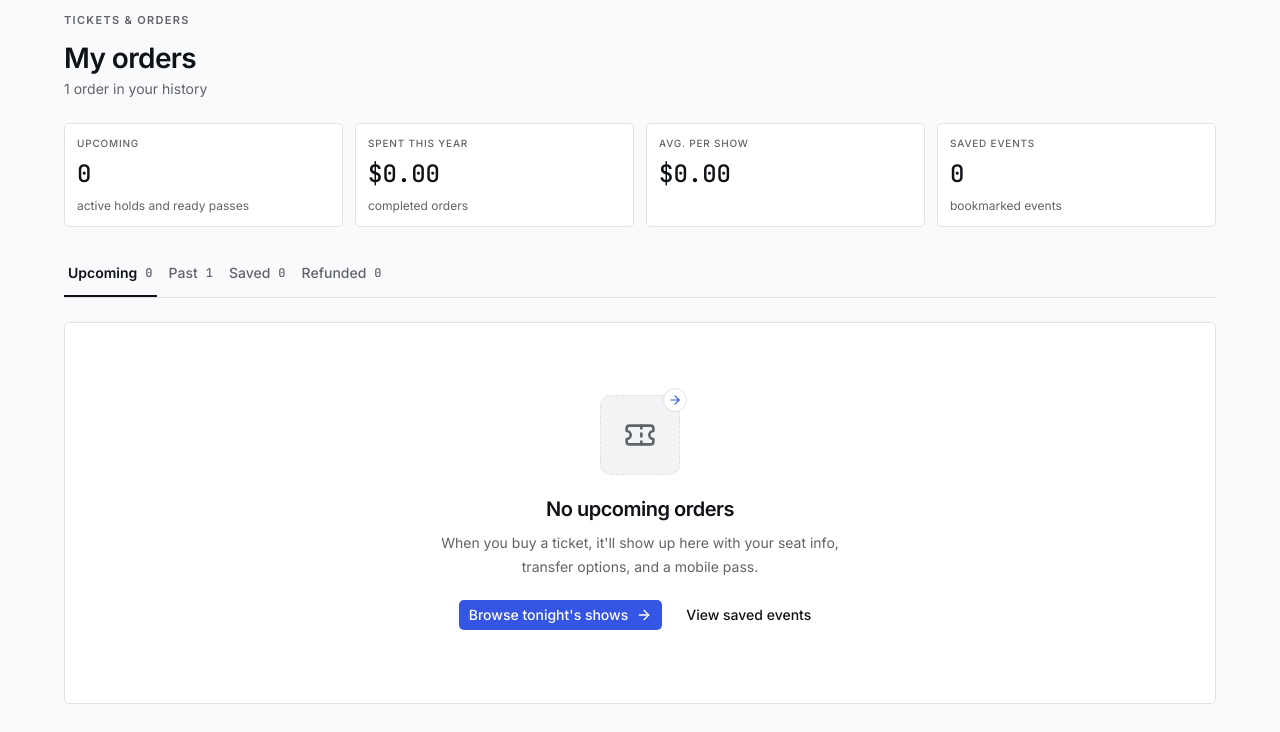
OrdersOverview › falls back to the ticket title when the enriched event title is blank
Click the tab "Past 1" at (191, 274), box x1=164 y1=251 x2=217 y2=297
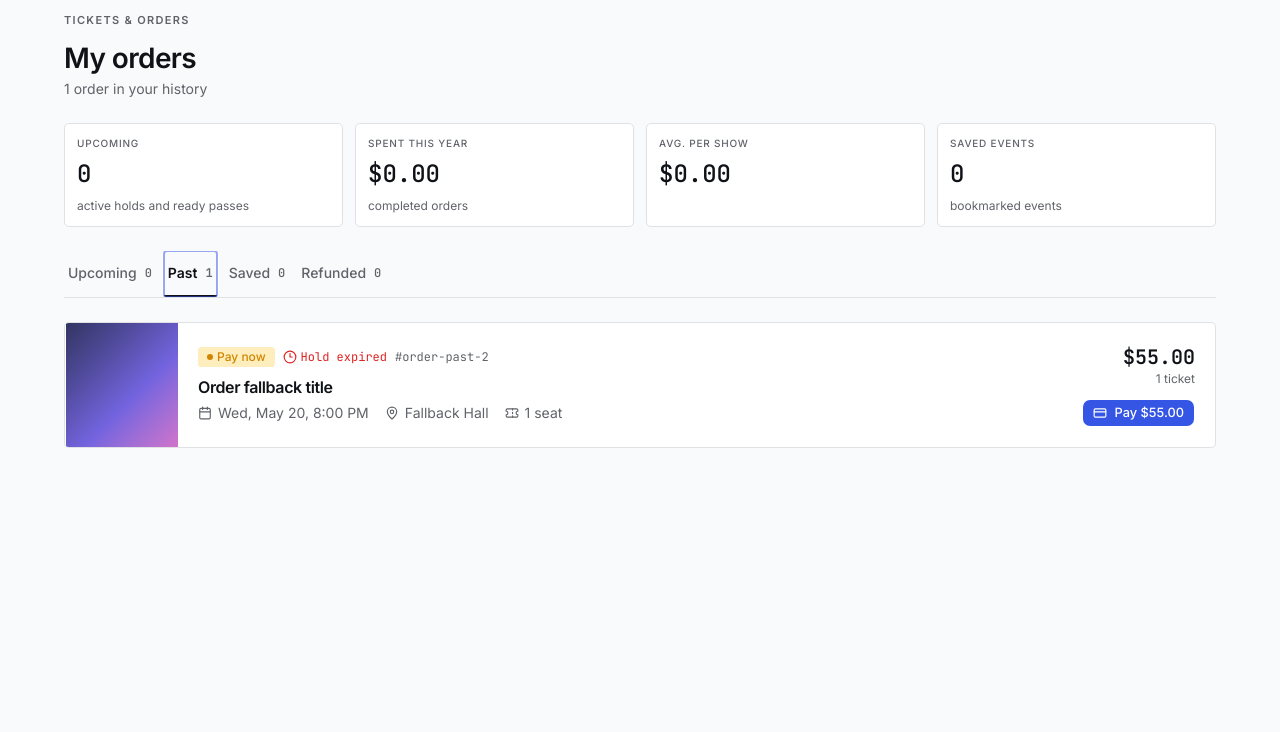
Now the heading "Order fallback title" is shown, box x1=198 y1=377 x2=333 y2=397
